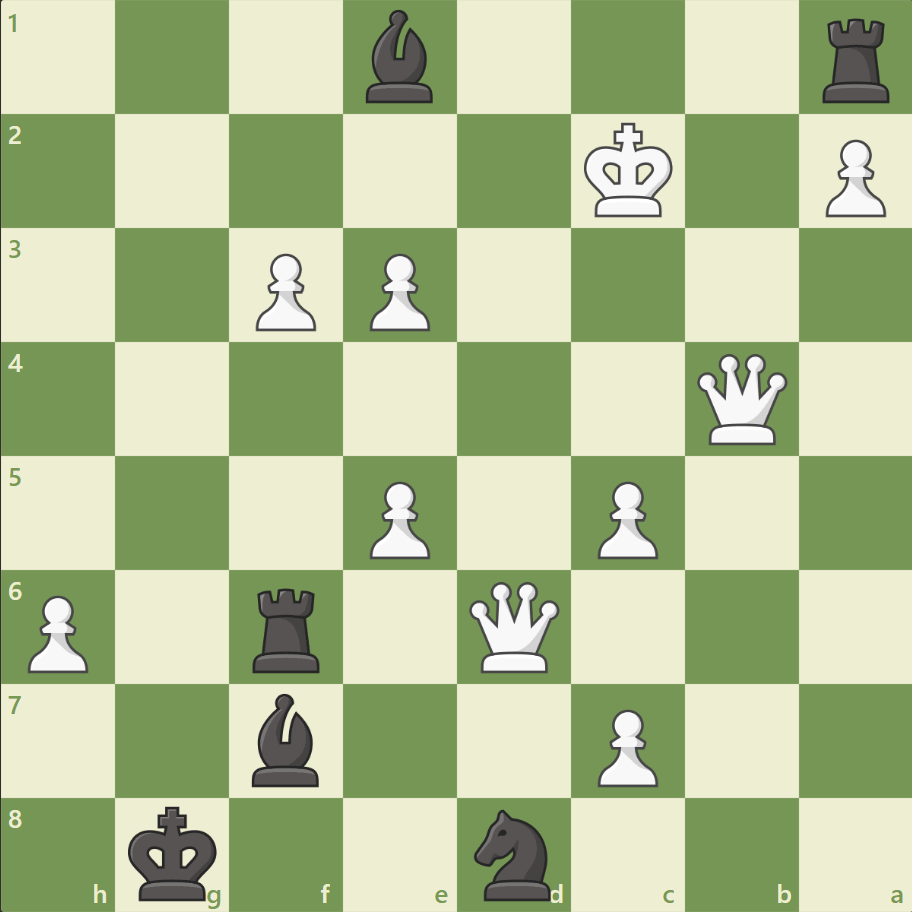K: (579, 117, 679, 225)
P: (20, 586, 95, 677), (247, 246, 322, 337), (588, 700, 662, 791), (588, 473, 662, 564), (361, 473, 435, 564), (361, 246, 435, 337), (815, 132, 889, 223)
Q: (464, 576, 563, 676), (691, 349, 790, 449)
b: (244, 687, 328, 790), (358, 6, 442, 109)
k: (124, 798, 224, 906)
n: (465, 802, 562, 904)
r: (246, 579, 329, 676), (814, 12, 897, 109)
